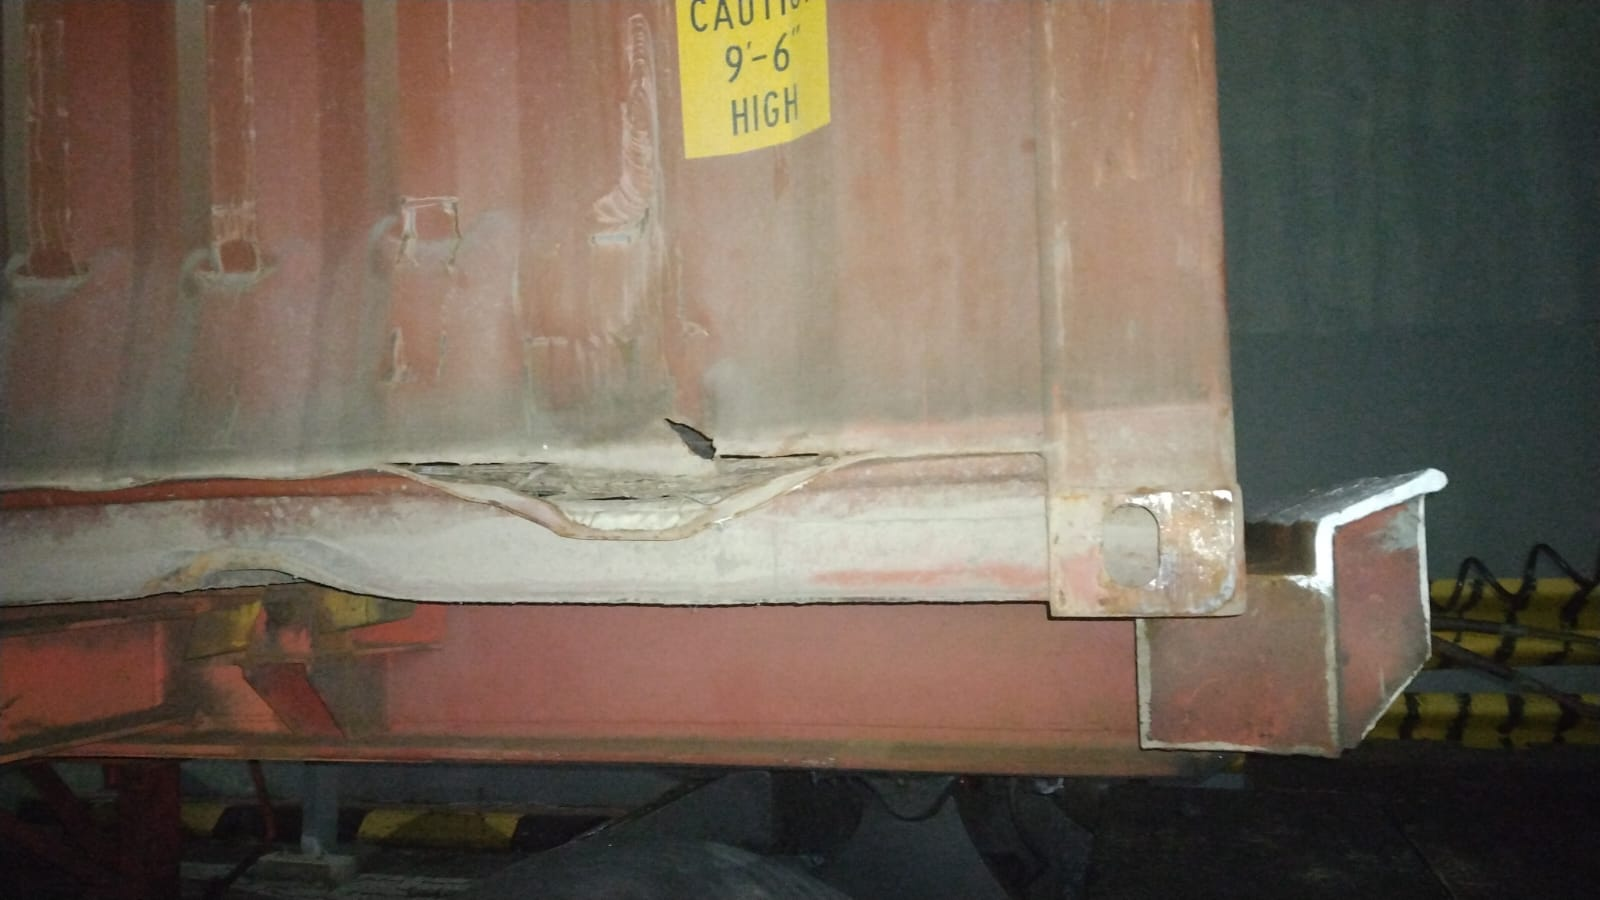severe: (12, 95, 1045, 571)
